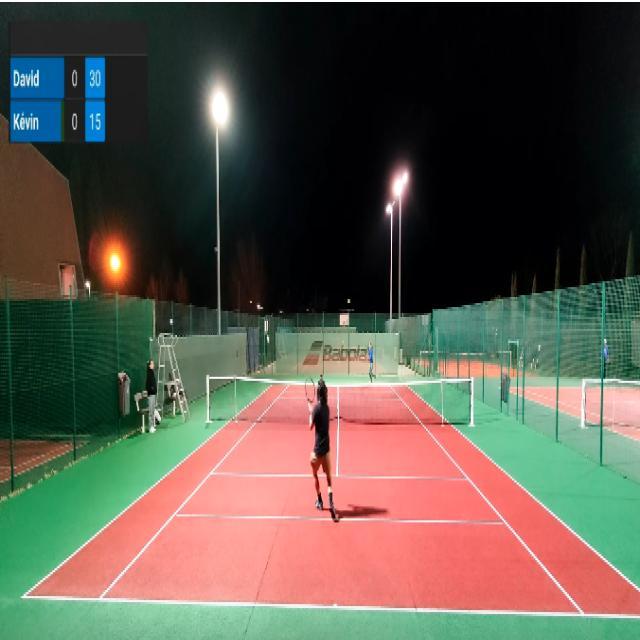ball: (347, 297, 351, 305)
